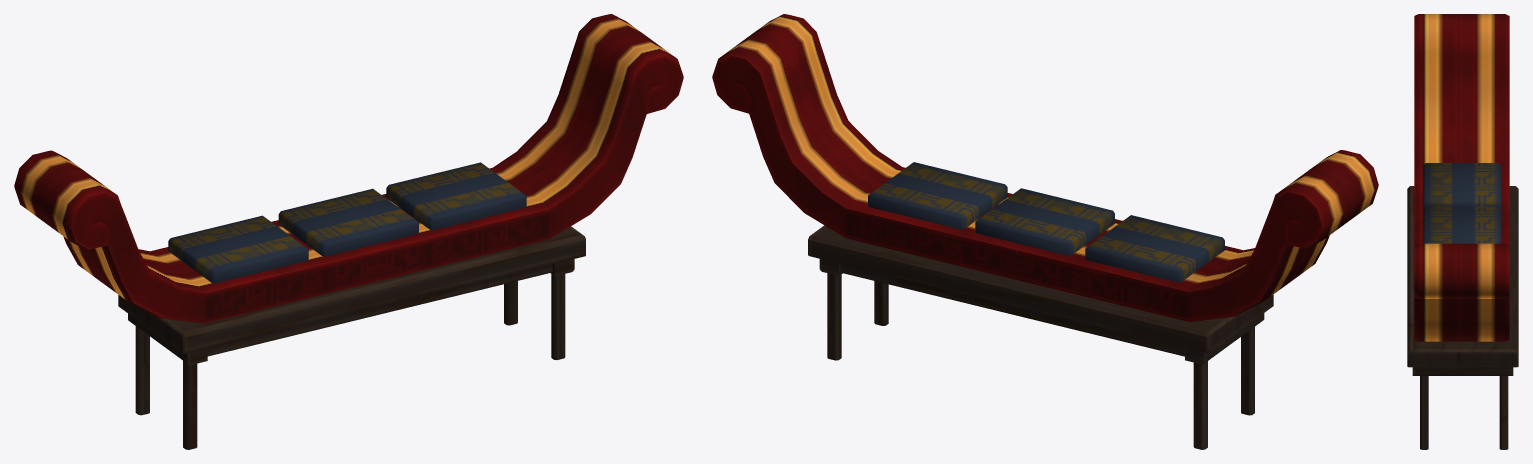
File: ChairOrnamented.FBX
3 renders of one model, left to right at view 1: azimuth 30°, elevation 25°; view 2: azimuth 150°, elevation 25°; view 3: azimuth 270°, elevation 25°, orthographic. The views are drawn at different scales.
Visible parts, largest first — view 1: ChairOrnamented; view 2: ChairOrnamented; view 3: ChairOrnamented.
Boxes of the visible parts, x1=… form: ChairOrnamented: x1=14, y1=14, x2=683, y2=449; ChairOrnamented: x1=712, y1=14, x2=1378, y2=449; ChairOrnamented: x1=1407, y1=14, x2=1518, y2=449.
Size of the model in its own units: 5.41 by 2.37 by 1.01.
